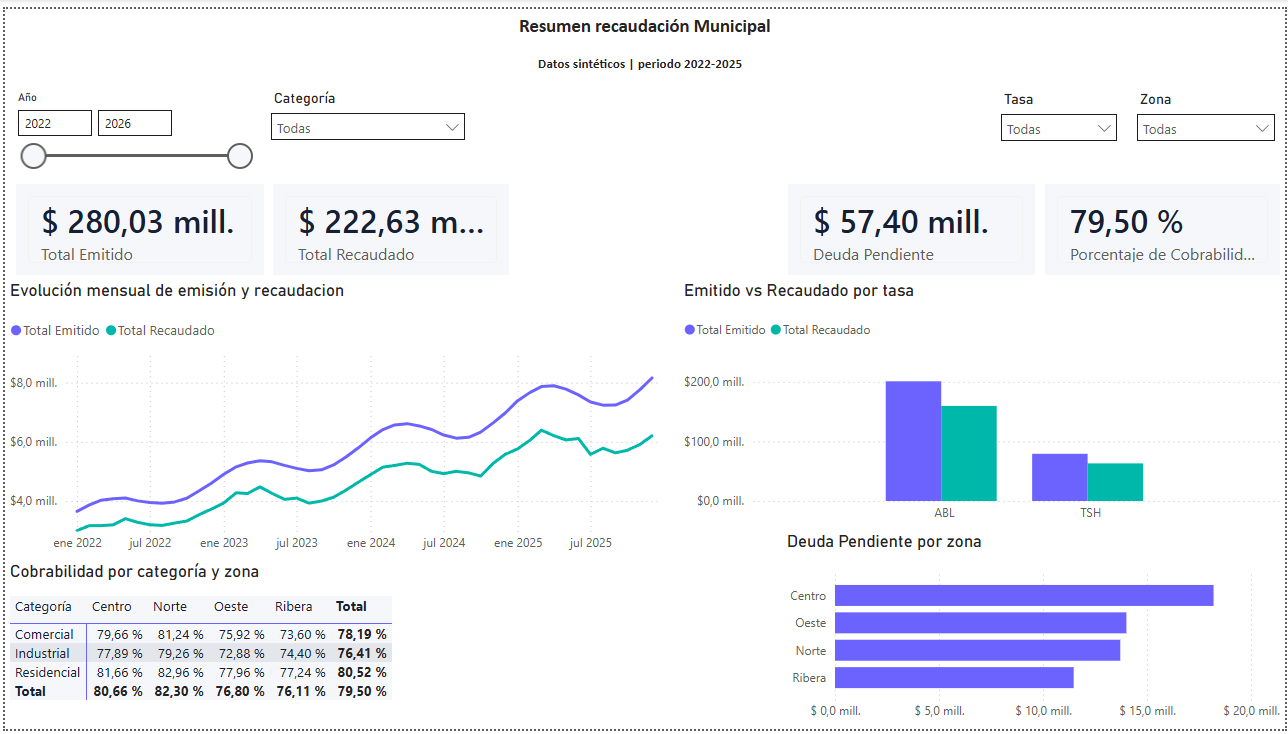

This screenshot's page, from the dashboard's own definition file:
{"tool":"powerbi","page":{"name":"Resumen Ejecutivo","canvas":[1280,720],"ordinal":0},"visuals":[{"type":"cardVisual","title":"Total Emitido","fields":{"Data":["revenue_monthly.Total Emitido"]},"box":[6.2,170.2,257.5,101.1],"z":0},{"type":"cardVisual","fields":{"Data":["revenue_monthly.Total Recaudado"]},"box":[263.3,170.2,245.3,101.1],"z":1000},{"type":"cardVisual","fields":{"Data":["revenue_monthly.Deuda Pendiente"]},"box":[777.6,170.2,257.5,101.1],"z":2000},{"type":"cardVisual","fields":{"Data":["revenue_monthly.Porcentaje de Cobrabilidad"]},"box":[1034.8,170.2,245.3,101.1],"z":3000},{"type":"lineChart","title":"Evolución mensual de emisión y recaudacion","fields":{"Category":["Calendario.Date"],"Y":["revenue_monthly.Total Emitido","revenue_monthly.Total Recaudado"]},"box":[0,271.3,673.2,280.9],"z":4000},{"type":"clusteredColumnChart","title":"Emitido vs Recaudado por tasa","fields":{"Category":["revenue_monthly.tax_type"],"Y":["revenue_monthly.Total Emitido","revenue_monthly.Total Recaudado"]},"box":[673.9,271.3,606.8,250.9],"z":5000},{"type":"barChart","title":"Deuda Pendiente por zona","fields":{"Category":["revenue_monthly.zone"],"Y":["revenue_monthly.Deuda Pendiente"]},"box":[777.2,522.5,502.8,197.6],"z":6000},{"type":"pivotTable","title":"Cobrabilidad por categoría y zona ","fields":{"Rows":["revenue_monthly.category"],"Columns":["revenue_monthly.zone"],"Values":["revenue_monthly.Porcentaje de Cobrabilidad"]},"box":[0,552.5,411.1,167.6],"z":7000},{"type":"textbox","box":[509,0,262.5,39.9],"z":8000},{"type":"textbox","box":[528.1,40.3,224.7,36.5],"z":9000},{"type":"slicer","fields":{"Values":["Calendario.Año"]},"box":[0,77.1,256.3,93.1],"z":10000},{"type":"slicer","fields":{"Values":["revenue_monthly.tax_type"]},"box":[986,77.1,135.7,93.1],"z":11000},{"type":"slicer","fields":{"Values":["revenue_monthly.zone"]},"box":[1121.7,77.1,158.7,93.1],"z":12000},{"type":"slicer","fields":{"Values":["revenue_monthly.category"]},"box":[256.3,76.3,213.7,94],"z":13000}]}

Visuals, with their boxes in screenshot pixels (x1, y1, x2, y2), scaled from the page's 1280x720 canvas onto the 1288x734 screenshot:
"Total Emitido" cardVisual: 6,174,265,277
cardVisual - revenue_monthly.Total Recaudado: 265,174,512,277
cardVisual - revenue_monthly.Deuda Pendiente: 782,174,1042,277
cardVisual - revenue_monthly.Porcentaje de Cobrabilidad: 1041,174,1287,277
"Evolución mensual de emisión y recaudacion" lineChart: 0,277,677,563
"Emitido vs Recaudado por tasa" clusteredColumnChart: 678,277,1287,532
"Deuda Pendiente por zona" barChart: 782,533,1287,733
"Cobrabilidad por categoría y zona " pivotTable: 0,563,414,733
textbox: 512,0,776,41
textbox: 531,41,758,78
slicer - Calendario.Año: 0,79,258,174
slicer - revenue_monthly.tax_type: 992,79,1129,174
slicer - revenue_monthly.zone: 1129,79,1287,174
slicer - revenue_monthly.category: 258,78,473,174
